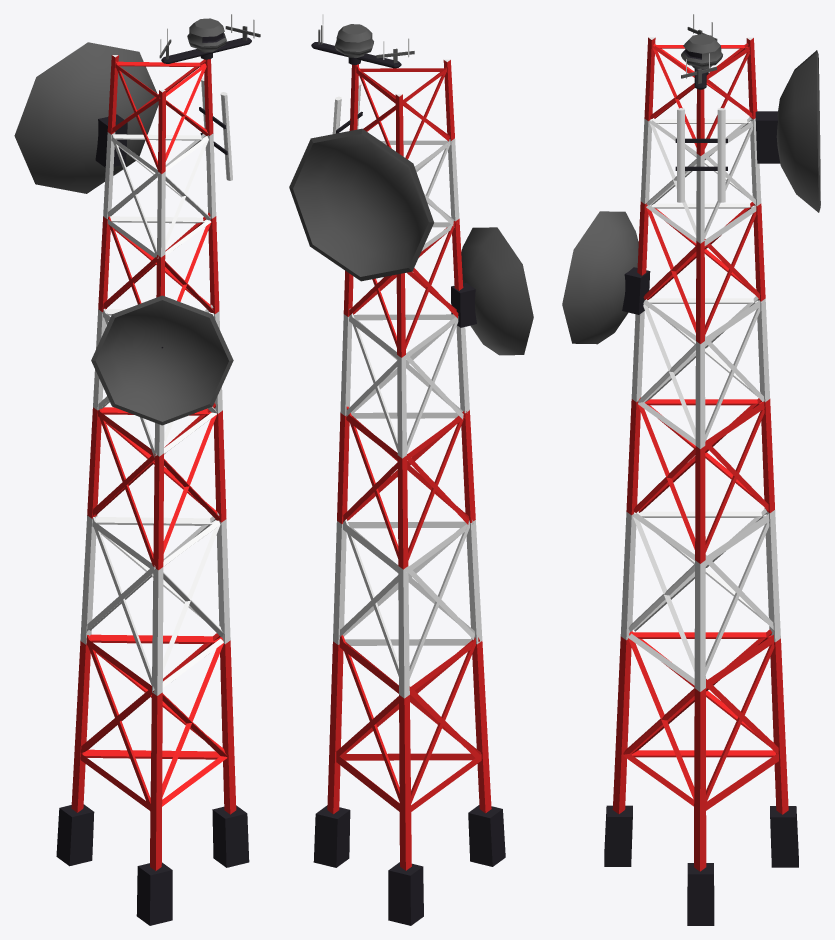
File: SM_RadioTower.obj
The picture shows the model from 3 angles, left to right: view 1: azimuth 30°, elevation 25°; view 2: azimuth 150°, elevation 25°; view 3: azimuth 270°, elevation 25°; orthographic projection. The views are drawn at different scales.
Visible parts, largest first — view 1: SM_RadioTower:pPrism71; view 2: SM_RadioTower:pPrism71; view 3: SM_RadioTower:pPrism71.
Part boxes in pixels (x1,y1,x2,y2): SM_RadioTower:pPrism71: (14,14,260,925); SM_RadioTower:pPrism71: (289,14,533,925); SM_RadioTower:pPrism71: (562,14,820,925).
Size of the model in its own units: 8.15 by 34.2 by 9.23.
